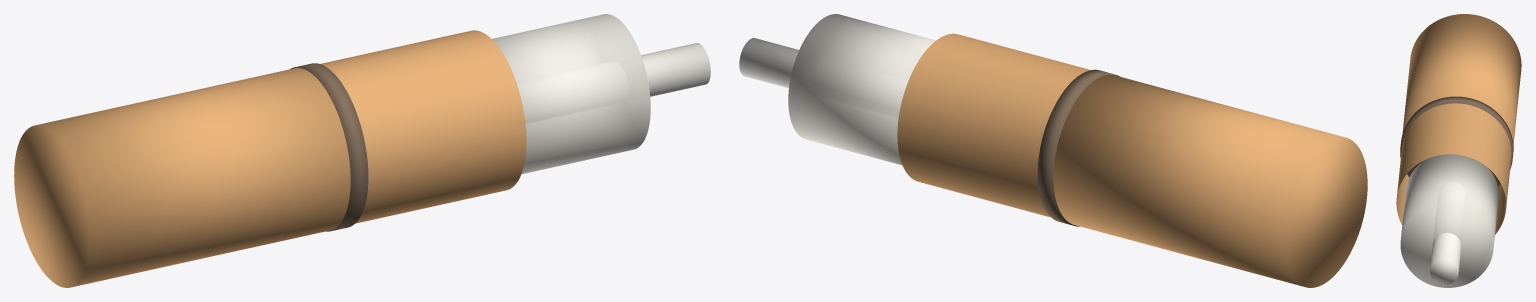
The picture shows the model from 3 angles, left to right: view 1: azimuth 30°, elevation 25°; view 2: azimuth 150°, elevation 25°; view 3: azimuth 270°, elevation 25°; orthographic projection. The views are drawn at different scales.
Visible parts, largest first — view 1: rear solid outer conductor tube, exposed solid outer conductor sleeve, ptfe dielectric core, outer conductor cut lip, solid center conductor continuous; view 2: rear solid outer conductor tube, exposed solid outer conductor sleeve, ptfe dielectric core, outer conductor cut lip, solid center conductor continuous; view 3: ptfe dielectric core, rear solid outer conductor tube, exposed solid outer conductor sleeve, solid center conductor continuous, outer conductor cut lip.
Part boxes in pixels (<box>): rear solid outer conductor tube: <box>14,68,350,287</box>; exposed solid outer conductor sleeve: <box>320,30,526,223</box>; ptfe dielectric core: <box>492,14,650,174</box>; outer conductor cut lip: <box>290,63,368,231</box>; solid center conductor continuous: <box>641,43,710,96</box>; rear solid outer conductor tube: <box>1053,74,1367,287</box>; exposed solid outer conductor sleeve: <box>897,33,1090,217</box>; ptfe dielectric core: <box>788,14,935,165</box>; outer conductor cut lip: <box>1037,69,1120,226</box>; solid center conductor continuous: <box>739,38,798,88</box>; ptfe dielectric core: <box>1400,154,1498,287</box>; rear solid outer conductor tube: <box>1402,14,1521,145</box>; exposed solid outer conductor sleeve: <box>1396,103,1511,234</box>; solid center conductor continuous: <box>1430,232,1461,284</box>; outer conductor cut lip: <box>1400,96,1513,186</box>.
Bounding box in the file's own units: 6.02 × 1.38 × 1.52.
